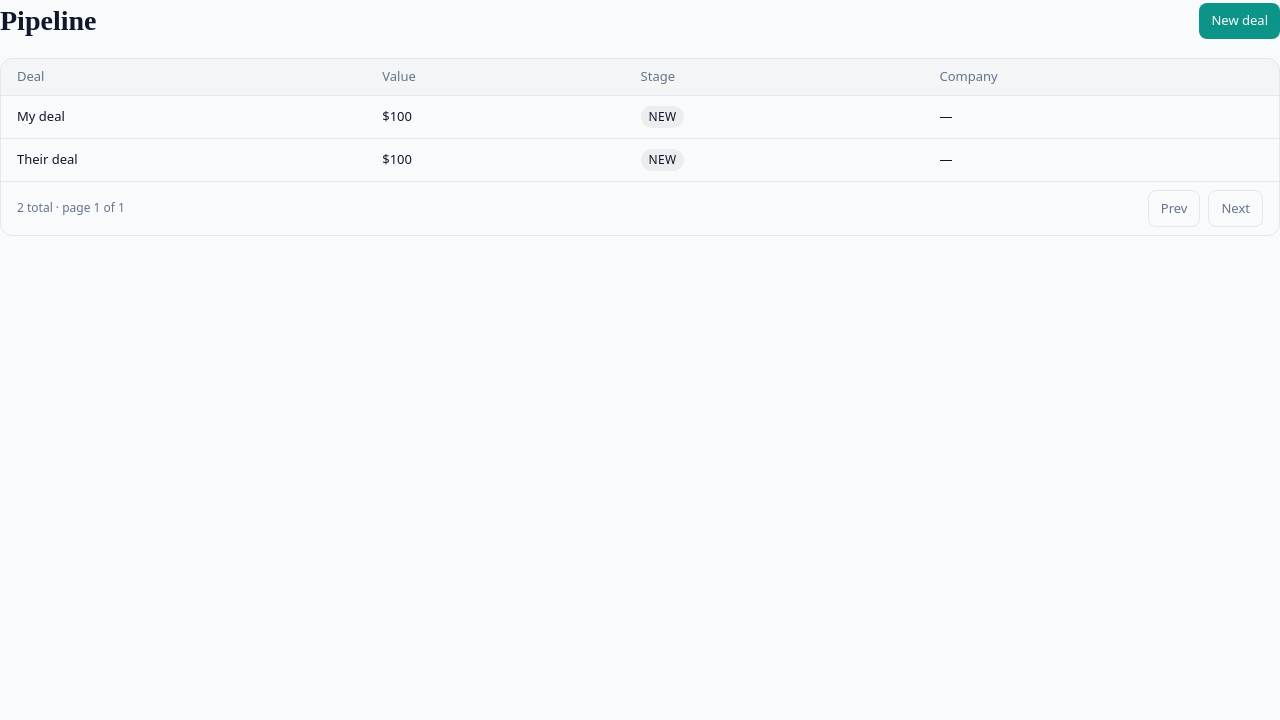
deal edit dialog › is editable for a manager on anyone's record
What coordinates should you click on to do the following:
click the text "Their deal"
I would click on:
 (47, 159)
Its box is [1, 138, 366, 180].
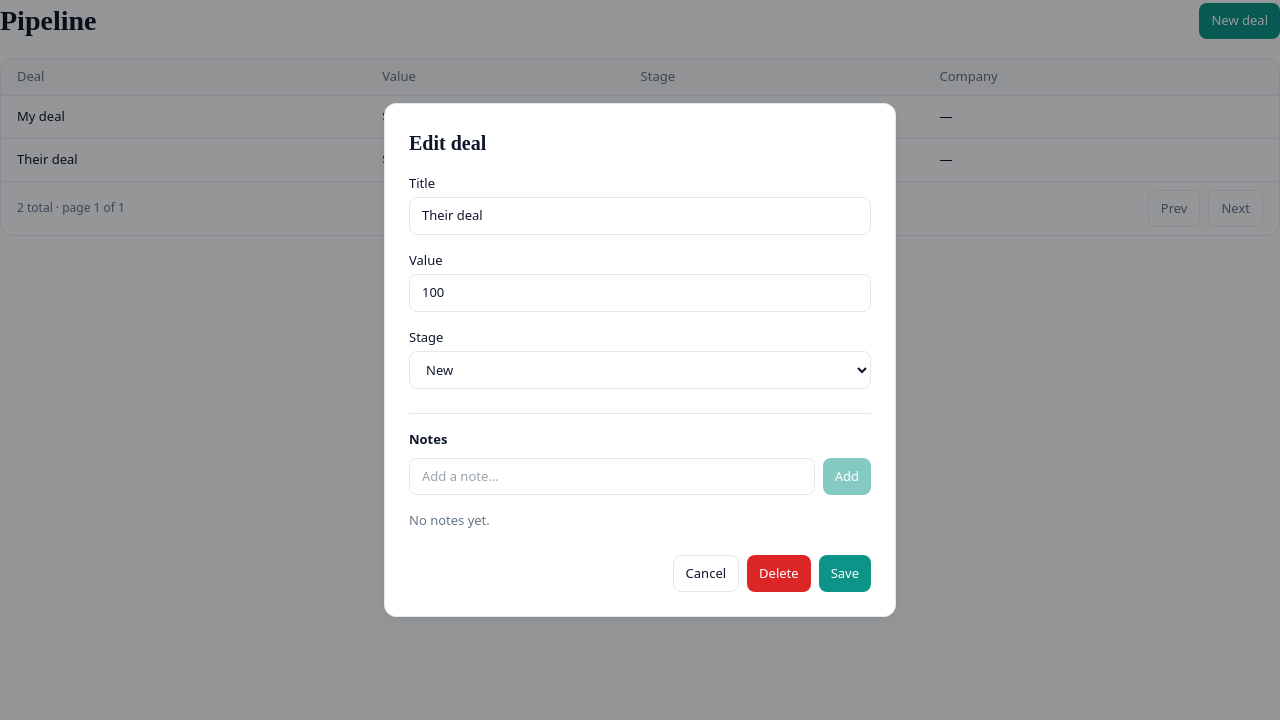
Result: the button "Save" is enabled at [819, 555, 871, 592]
